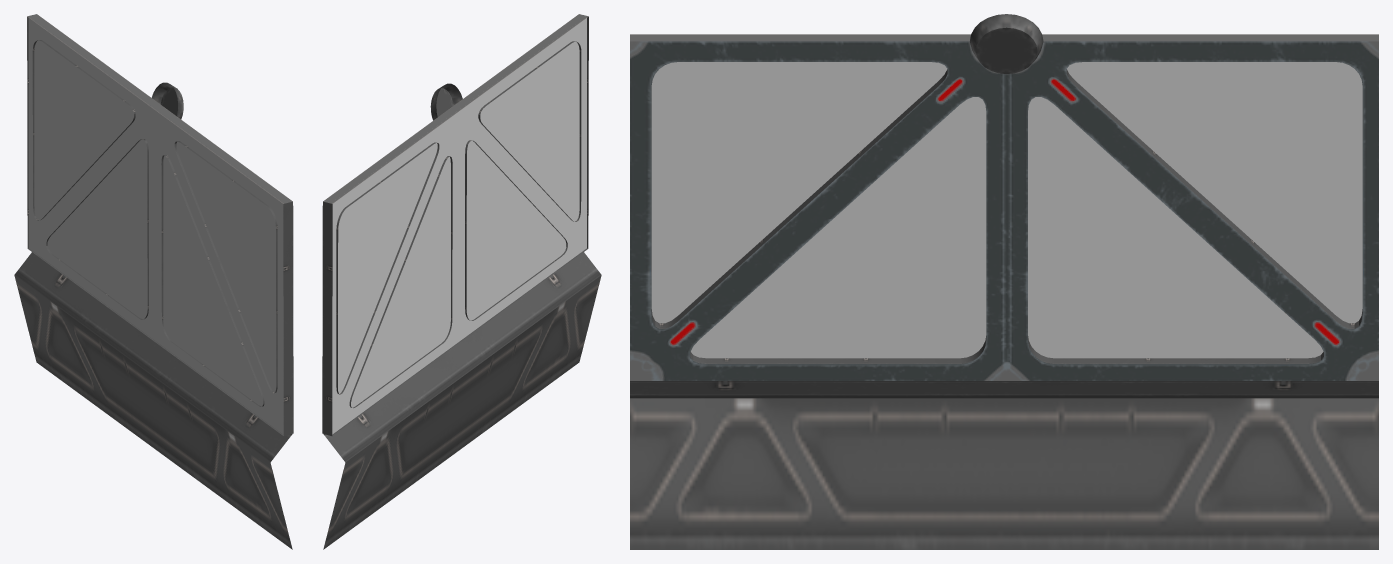
The model's file is wall-window-D_eVnV_o.glb.
3 renders of one model, left to right at view 1: azimuth 30°, elevation 25°; view 2: azimuth 150°, elevation 25°; view 3: azimuth 270°, elevation 25°, orthographic. The views are drawn at different scales.
Parts seen in each view (by area): view 1: WallWindow_Straight; view 2: WallWindow_Straight; view 3: WallWindow_Straight.
Part boxes in pixels (box(x1,y1,x2,y2)): WallWindow_Straight: box(14, 14, 293, 549); WallWindow_Straight: box(322, 14, 601, 549); WallWindow_Straight: box(630, 14, 1378, 549).
Size of the model in its own units: 0.3198 by 3.19 by 4.
4 materials, 3 textured.
